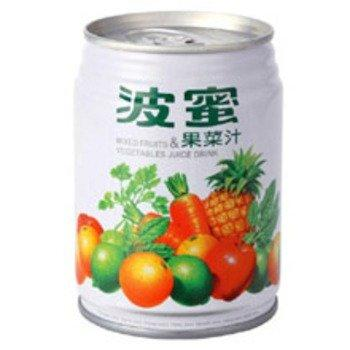vegetables juice: (53, 57, 286, 326)
